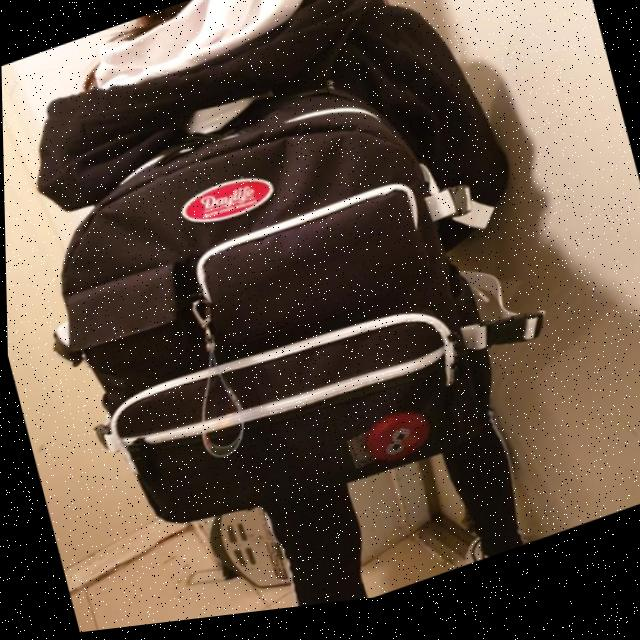backpack: (21, 33, 554, 587)
